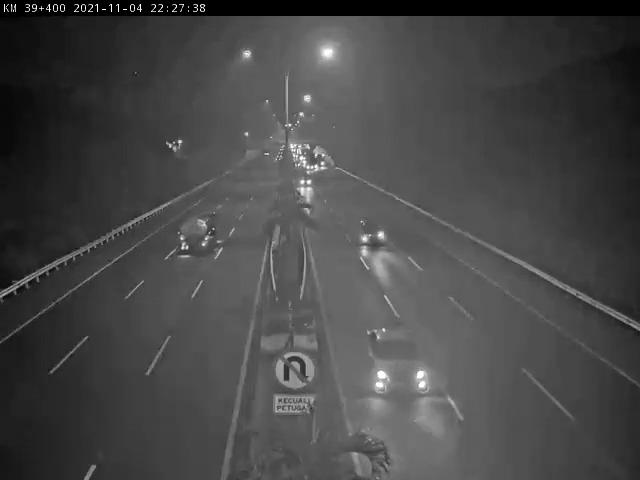car: (365, 325, 429, 398), (359, 216, 386, 248)
mid truck: (180, 214, 220, 254)
